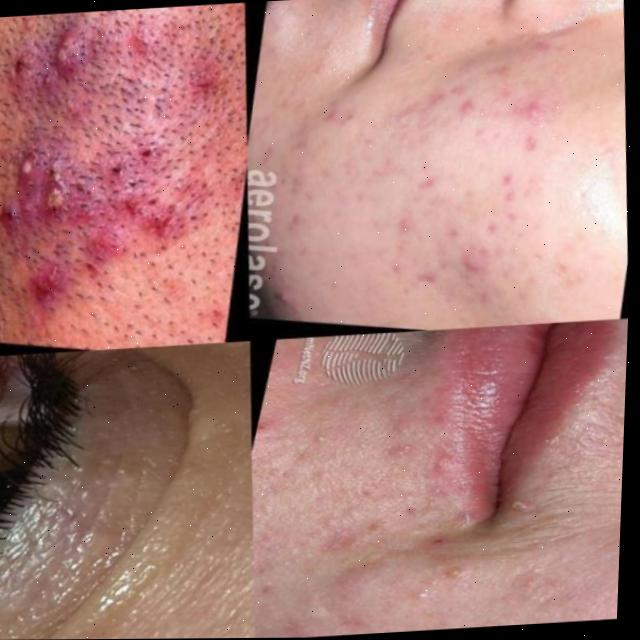Acne: (356, 58, 602, 354), (14, 44, 208, 301), (276, 452, 470, 614), (20, 513, 210, 640)
